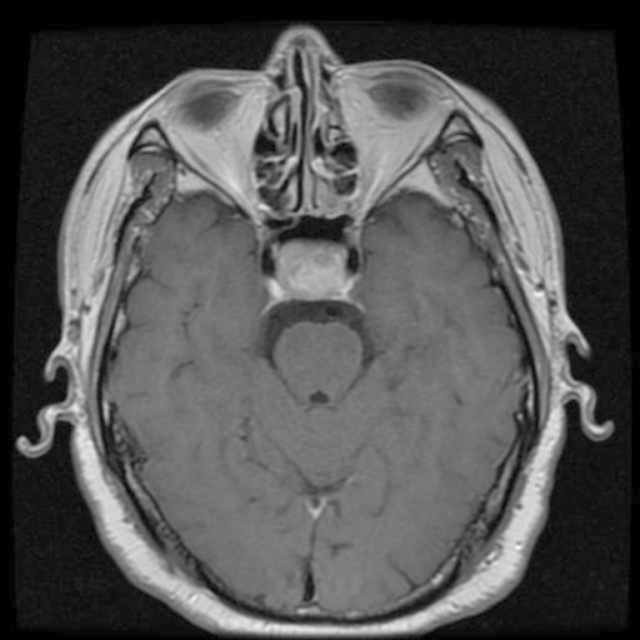no tumor: (258, 230, 376, 300)
